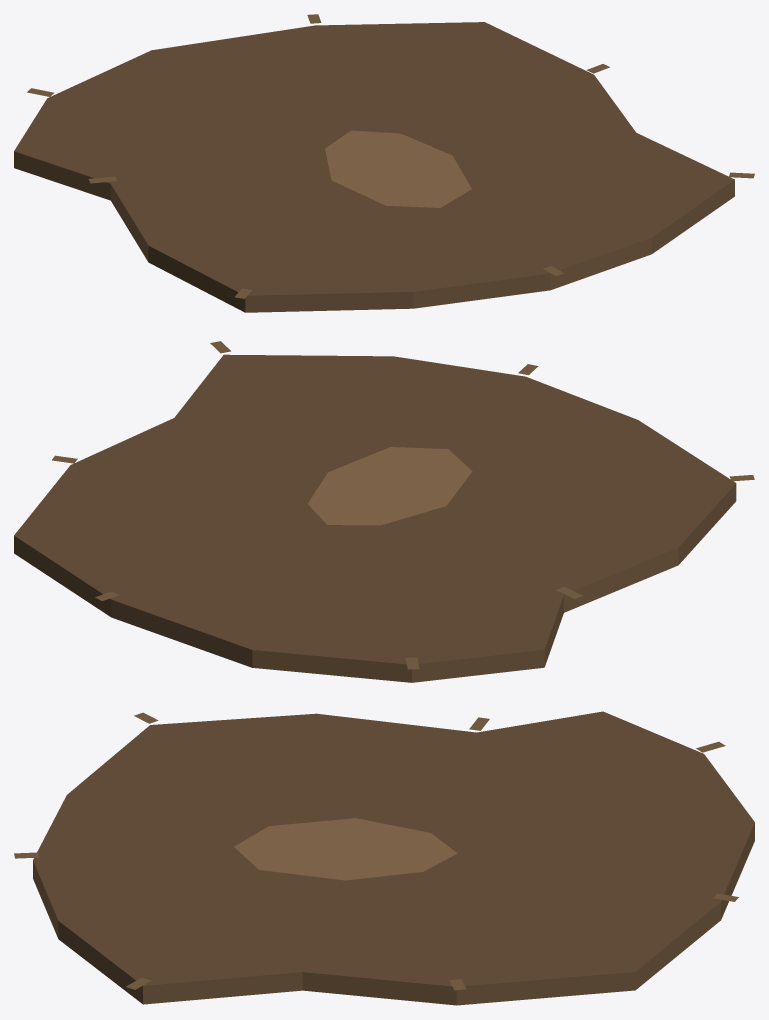
The model's file is BearHide.glb.
3 views of the same model, one above another, from view 1: azimuth 30°, elevation 25°; view 2: azimuth 150°, elevation 25°; view 3: azimuth 270°, elevation 25° (orthographic). The views are drawn at different scales.
Parts seen in each view (by area): view 1: BearHide; view 2: BearHide; view 3: BearHide.
Part boxes in pixels (left/top/right/bottom): BearHide: left=14, top=14, right=754, bottom=312; BearHide: left=14, top=341, right=754, bottom=682; BearHide: left=14, top=711, right=754, bottom=1005.
Size of the model in its own units: 1.64 by 0.063 by 1.81.
